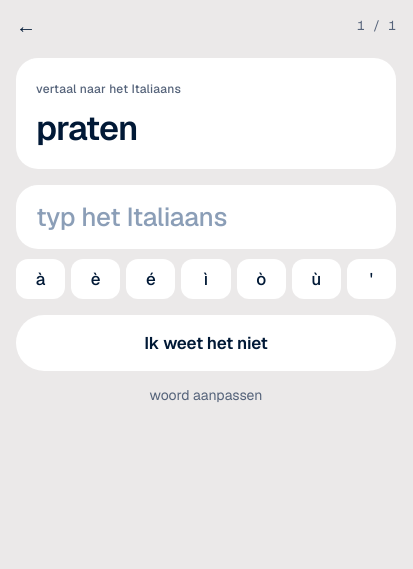
Test: Study – foute antwoorden worden niet overgeslagen › een correct antwoord gaat na de feedback nog steeds automatisch door (geen regressie)
The width and height of the screenshot is (413, 569).
Type "parlare" into the field with placeholder "typ het Italiaans" at (206, 217), box [16,185,396,249]
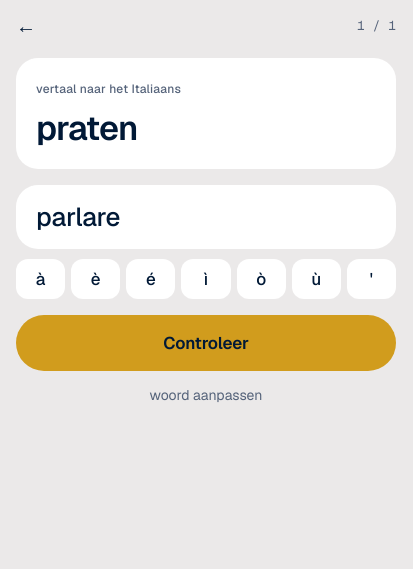
Click the button "Controleer" at (206, 343), box [16,315,396,371]
Wait 1000 ms
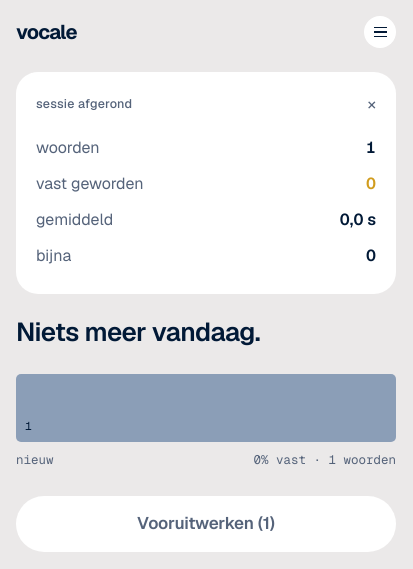
Now the text "sessie afgerond" is shown, box [36,95,132,114]
